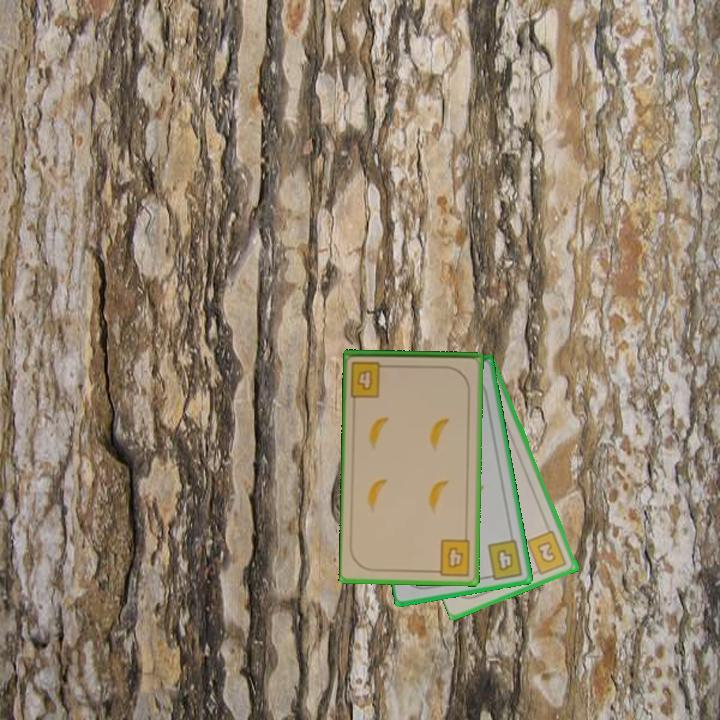2b: (524, 528, 570, 578)
4b: (482, 536, 526, 582), (348, 358, 393, 400), (430, 536, 473, 578)
